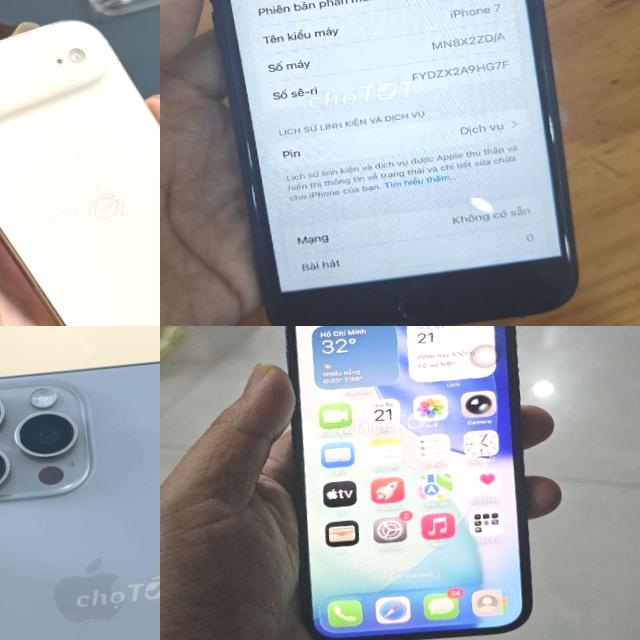scratch: (225, 134, 262, 168), (235, 180, 266, 213), (538, 109, 562, 148), (555, 224, 575, 261)
